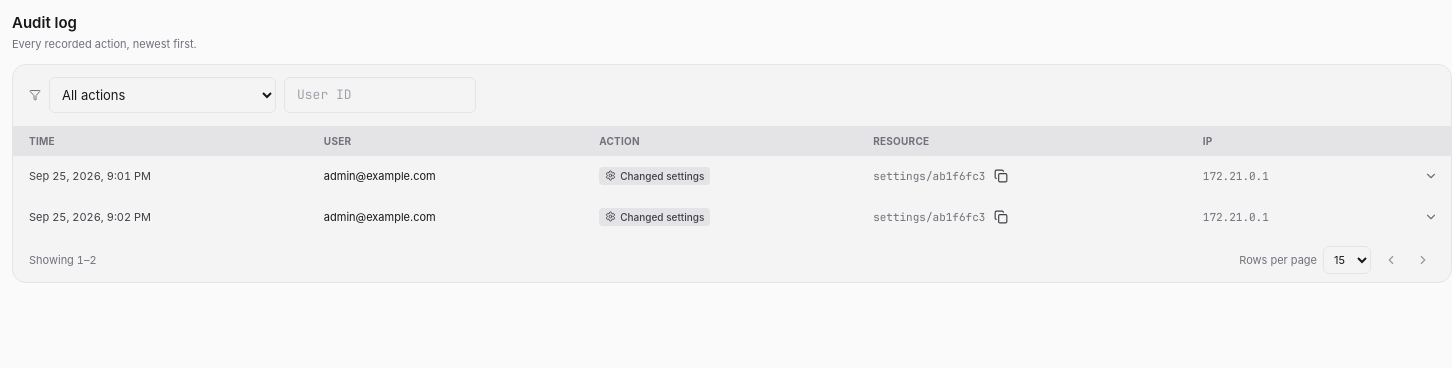
AuditLogSection › reveals an event's metadata on request, and says when there is none
Step 1. Click the button named "Show details" in the row of "Sep 25, 2026, 9:01 PM" → (1431, 176), box [1419,164,1443,188]
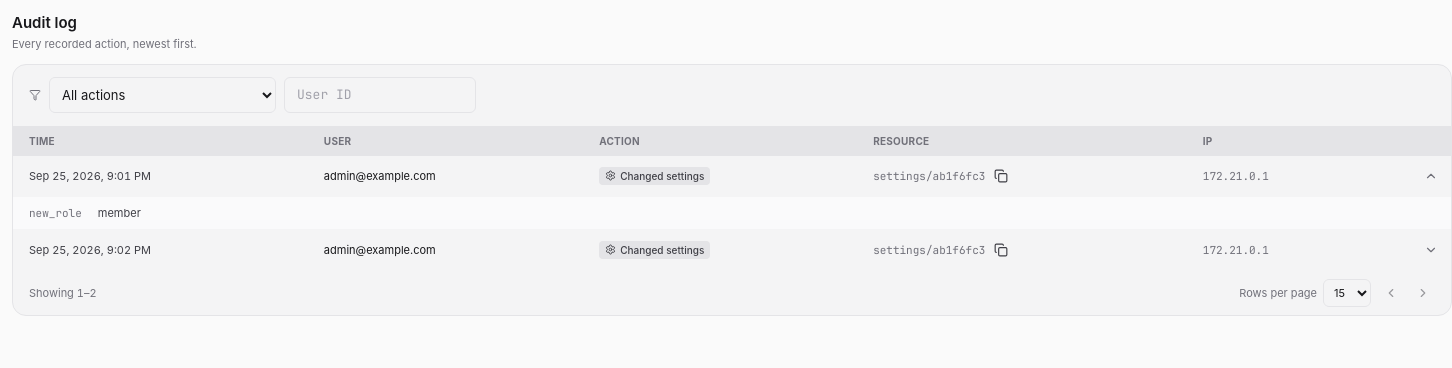
Expected: the text "new_role" is shown, [29,205,82,221]
Expected: the text "member" is shown, [98,206,141,220]
Expected: the button named "Hide details" is expanded, [1419,164,1443,188]
Step 2. Click the button named "Show details" → (1431, 250), box [1419,238,1443,262]
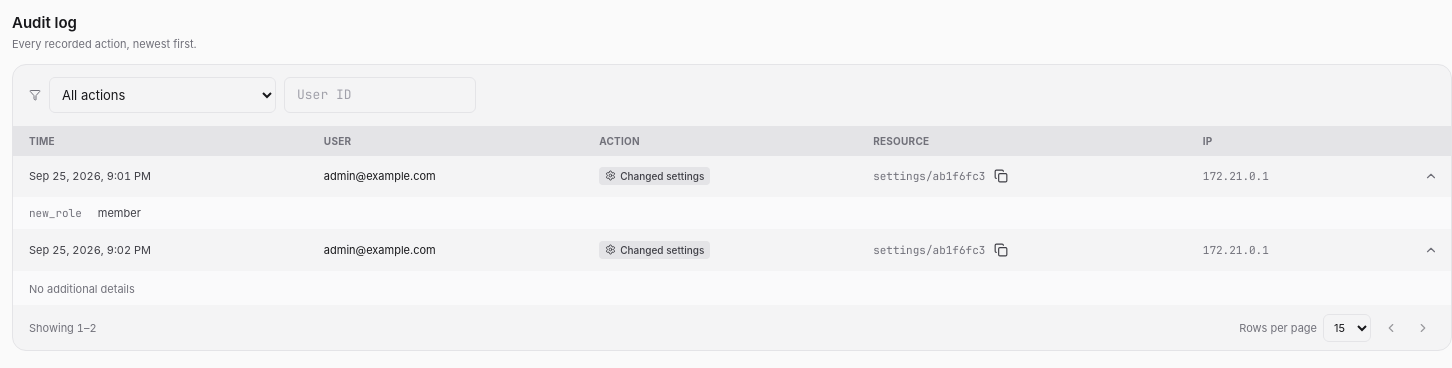
Expected: the text "No additional details" is shown, [29,282,135,296]
